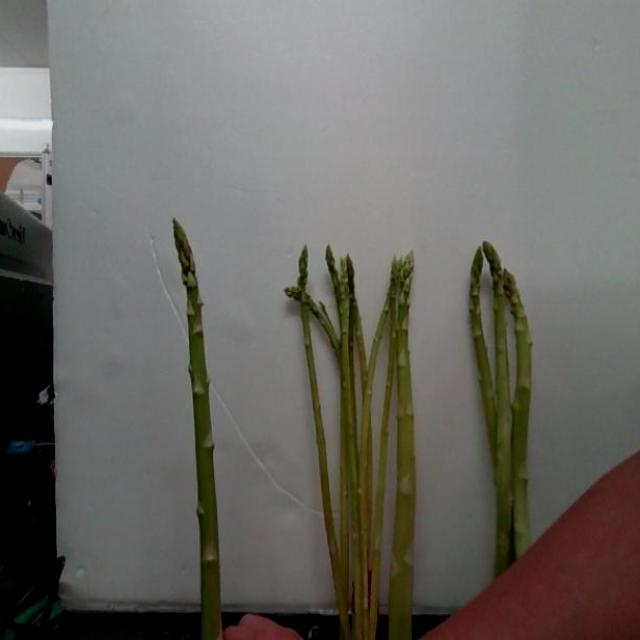aspargus: (174, 221, 222, 640), (385, 244, 413, 640)
